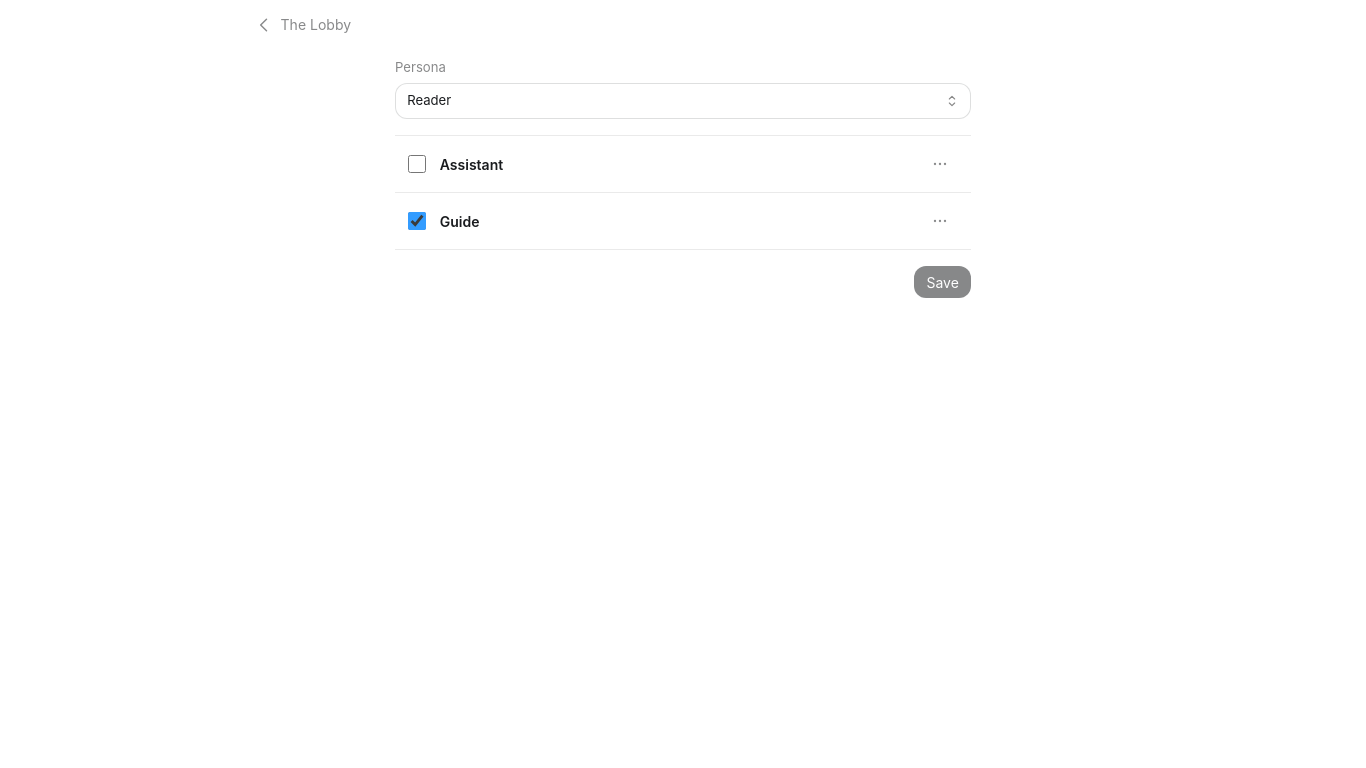
Test: previews unchecked characters with saved forum settings without changing a draft
This screenshot has width=1366, height=768.
Select "Guest" in the dropdown labelled "Persona". click: (683, 101)
box: top-left (395, 83), bottom-right (971, 119)
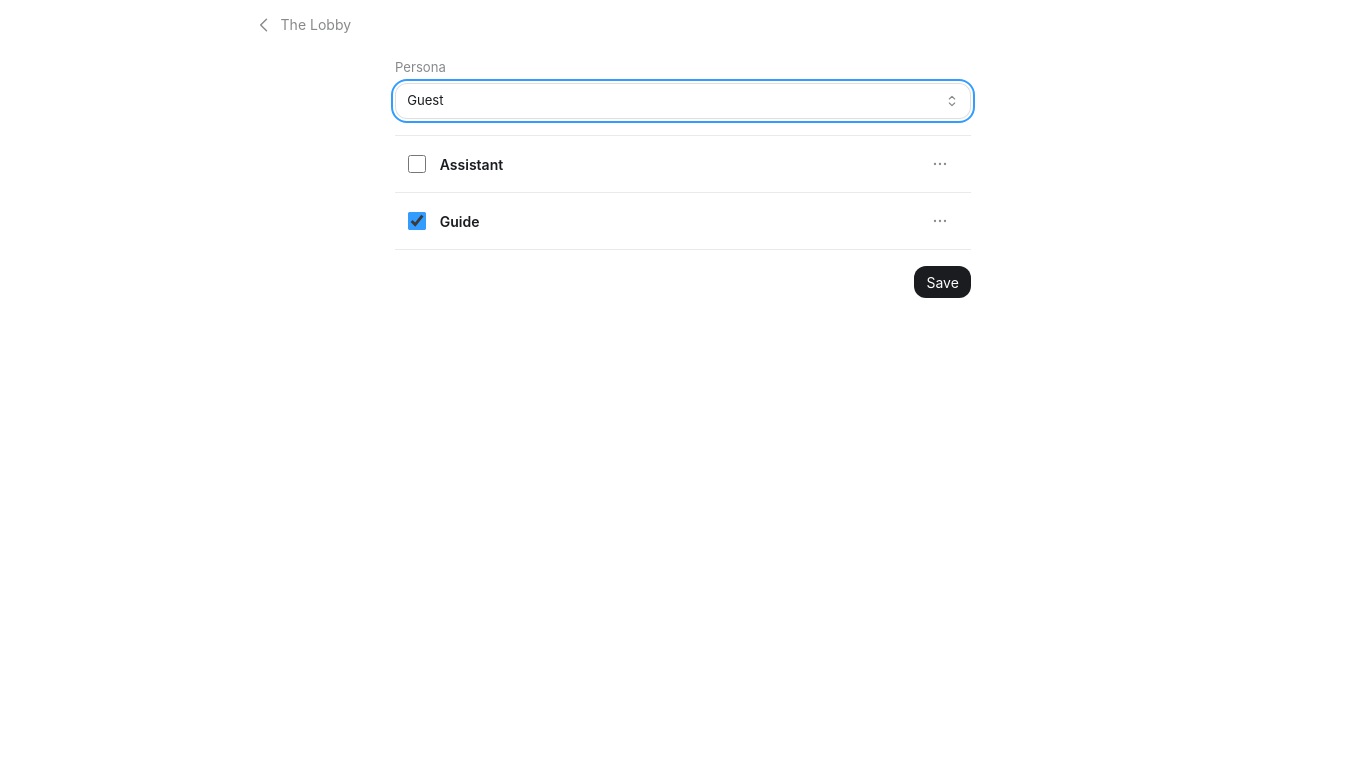
Click the button named "Show system prompt for Assistant". click: (940, 164)
box: top-left (922, 146), bottom-right (958, 182)
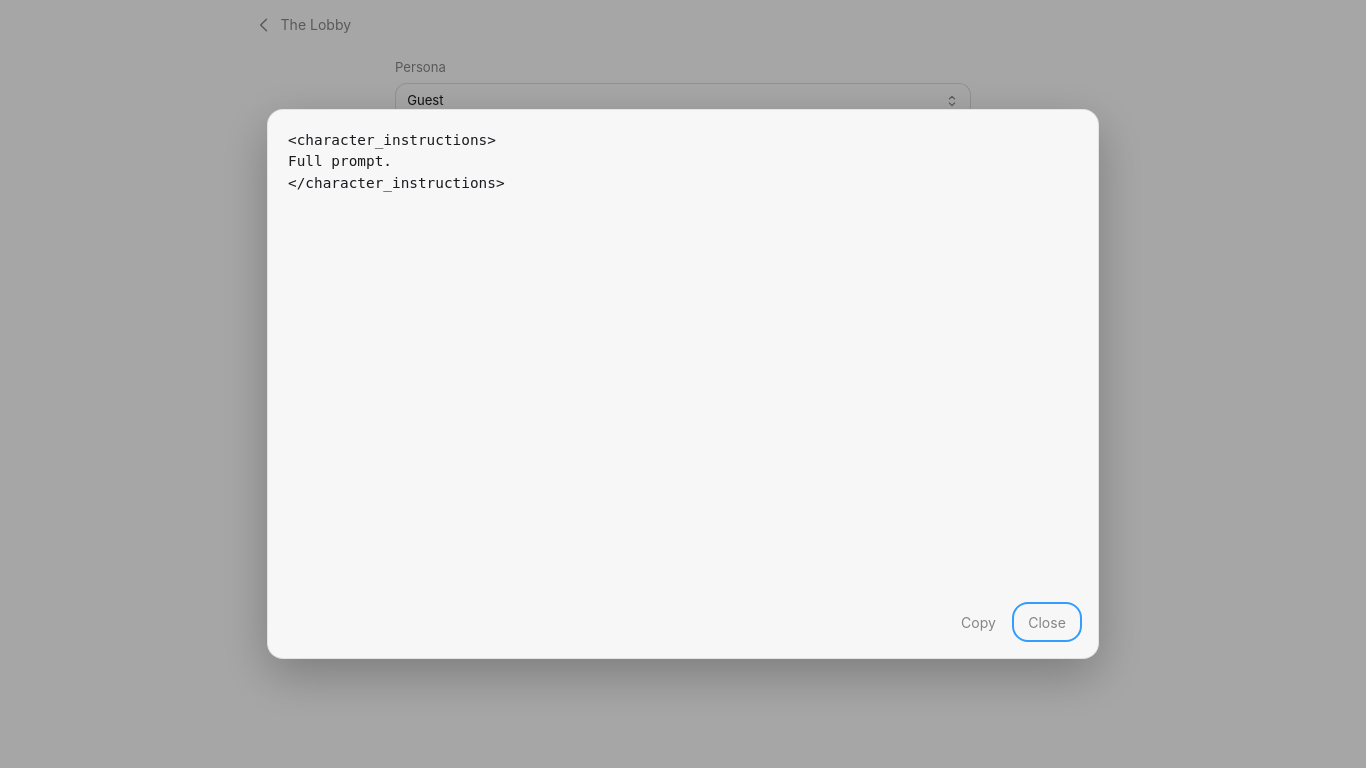
Check: the text named "System prompt" shows "Full prompt.", box top-left (288, 132), bottom-right (505, 191)
Click the button "Copy". click: (978, 622)
box: top-left (949, 606), bottom-right (1008, 638)
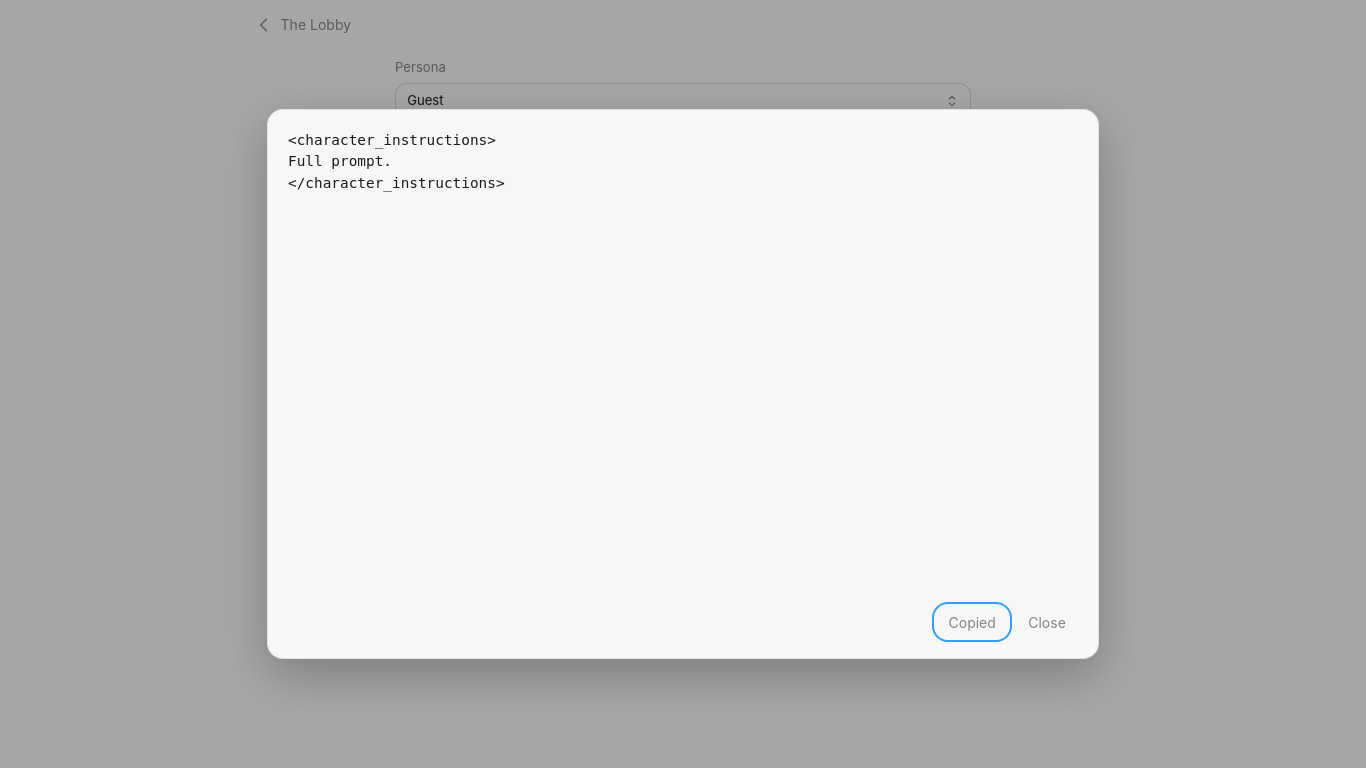
Check: the button "Copied" is enabled, box top-left (936, 606), bottom-right (1008, 638)
Click the button "Close". click: (1047, 622)
box: top-left (1016, 606), bottom-right (1078, 638)
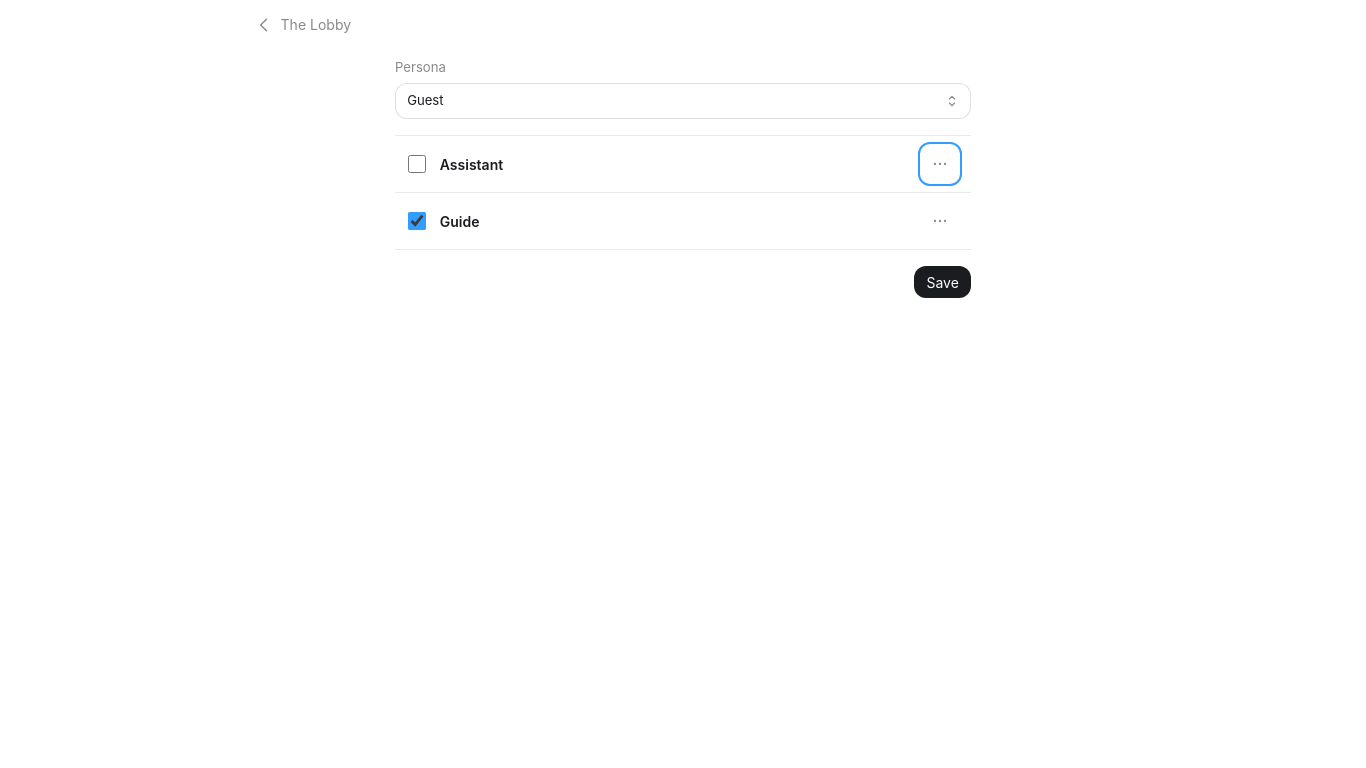
Click the button named "Show system prompt for Assistant". click: (940, 164)
box: top-left (922, 146), bottom-right (958, 182)
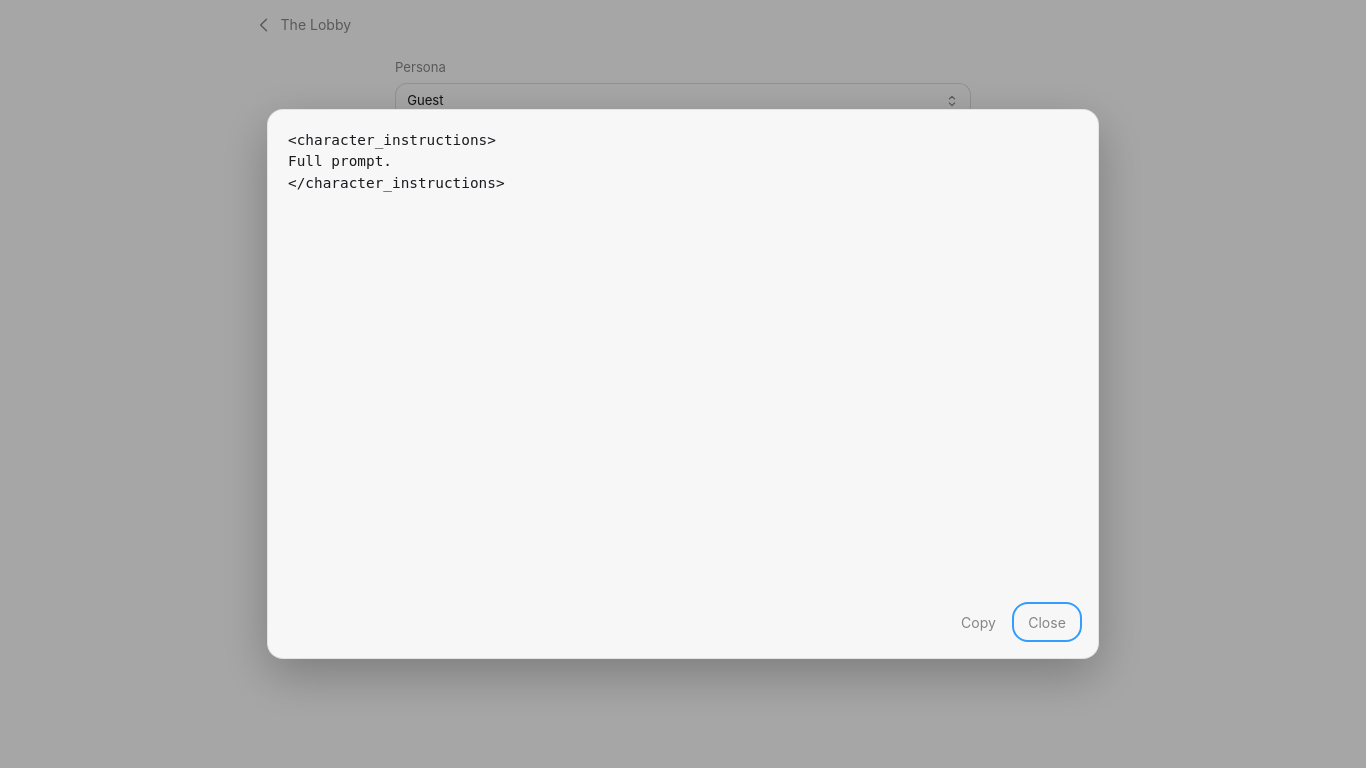
Check: the button "Copied" is not shown
Check: the text named "System prompt" is shown, box top-left (288, 132), bottom-right (505, 191)
Check: the button "Copy" is enabled, box top-left (949, 606), bottom-right (1008, 638)
